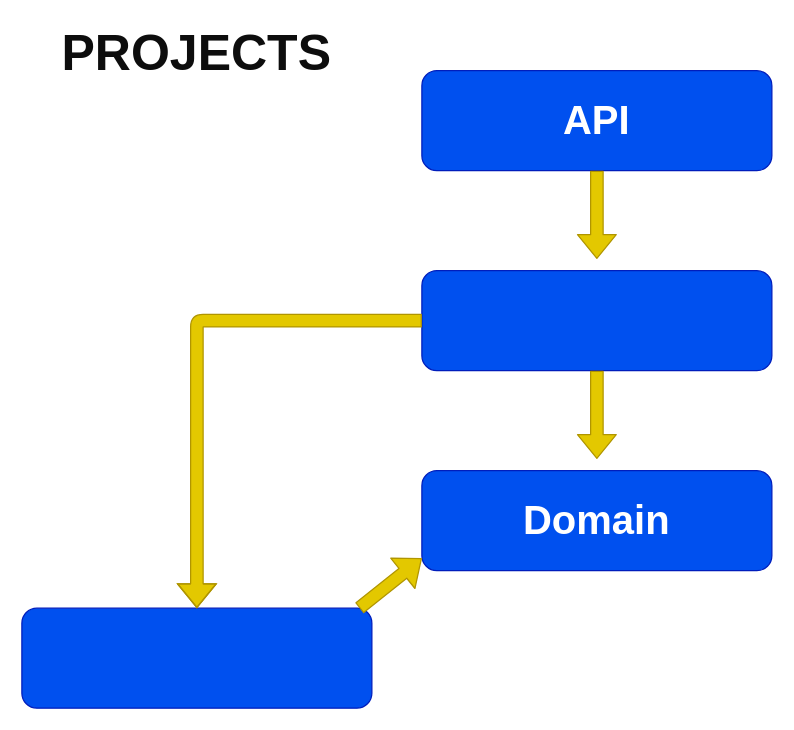
This 794x730 diagram has some shape labels left out. Here are the shapes that lost their labels. From the top down, the box of each, then its label:
(421, 269, 772, 371): Application
(21, 607, 372, 708): Persistence
